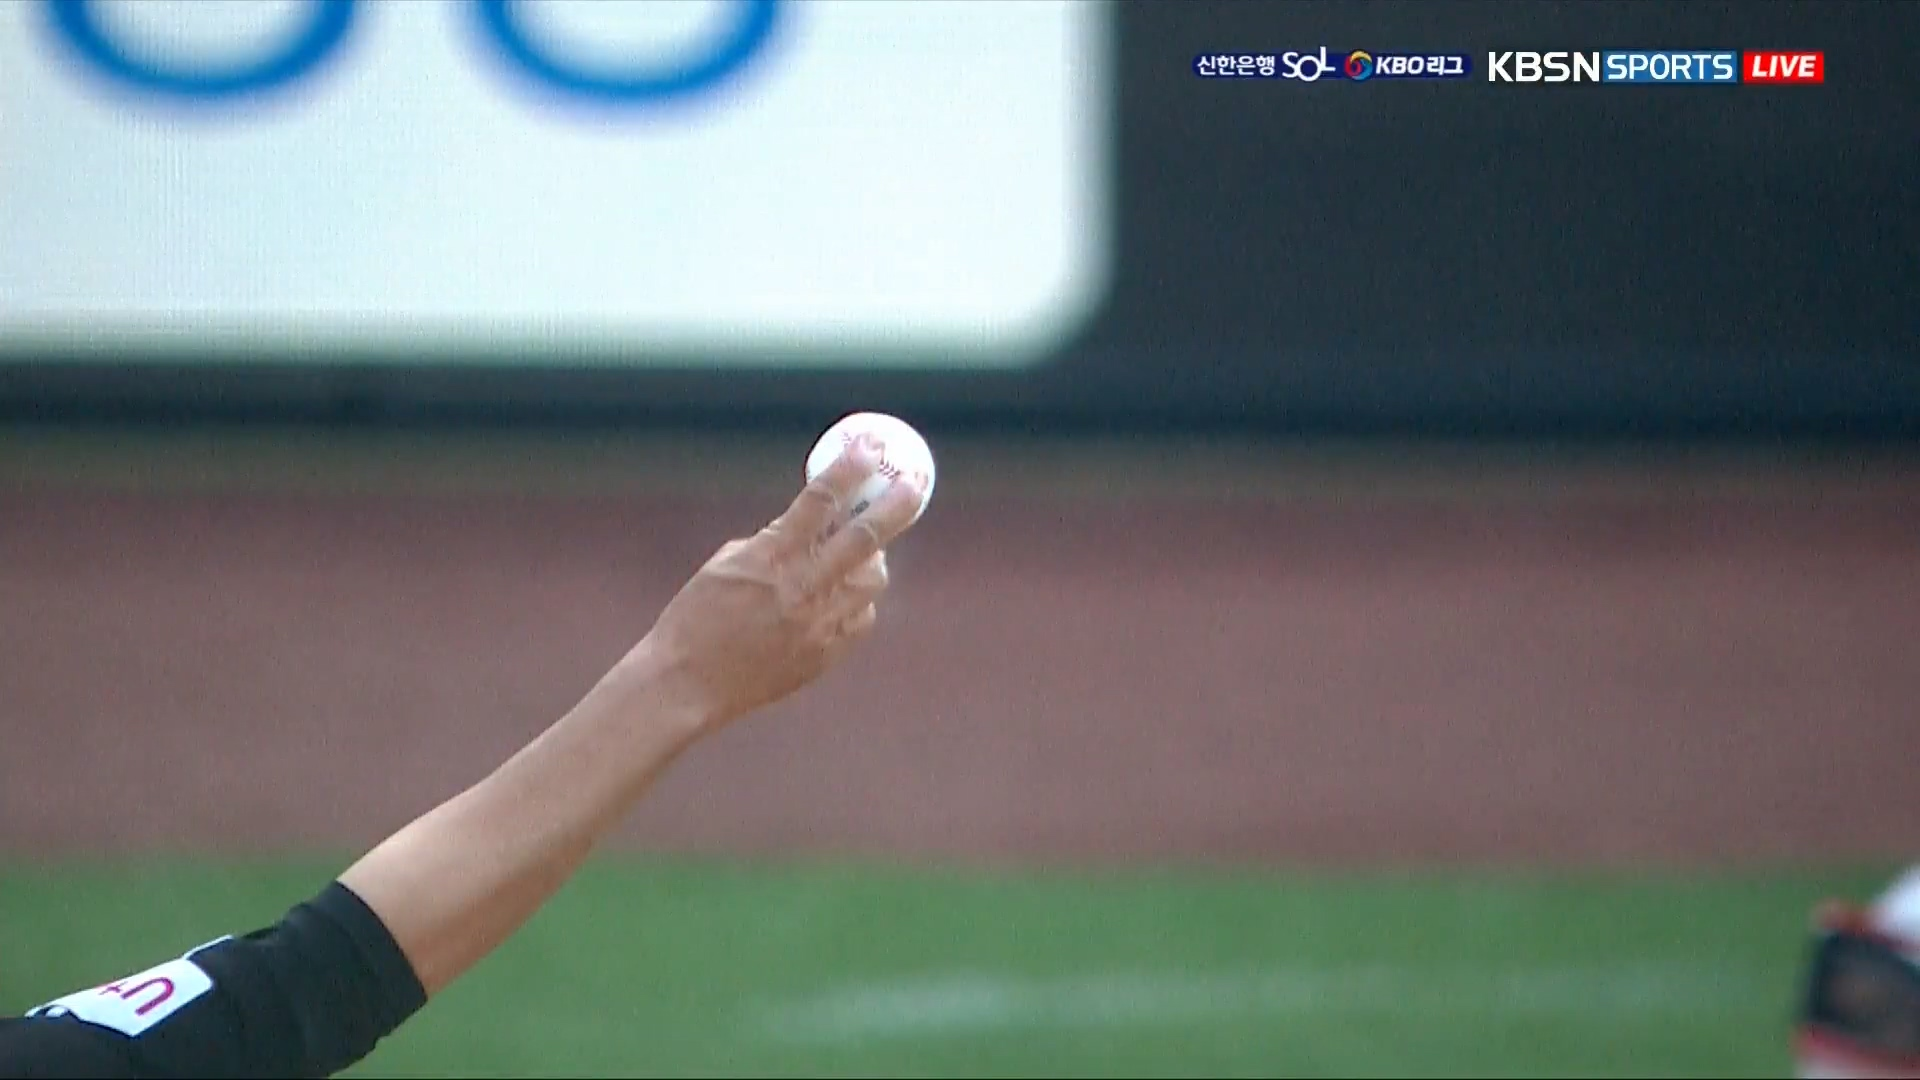zoomin_hand: (339, 404, 957, 1068)
